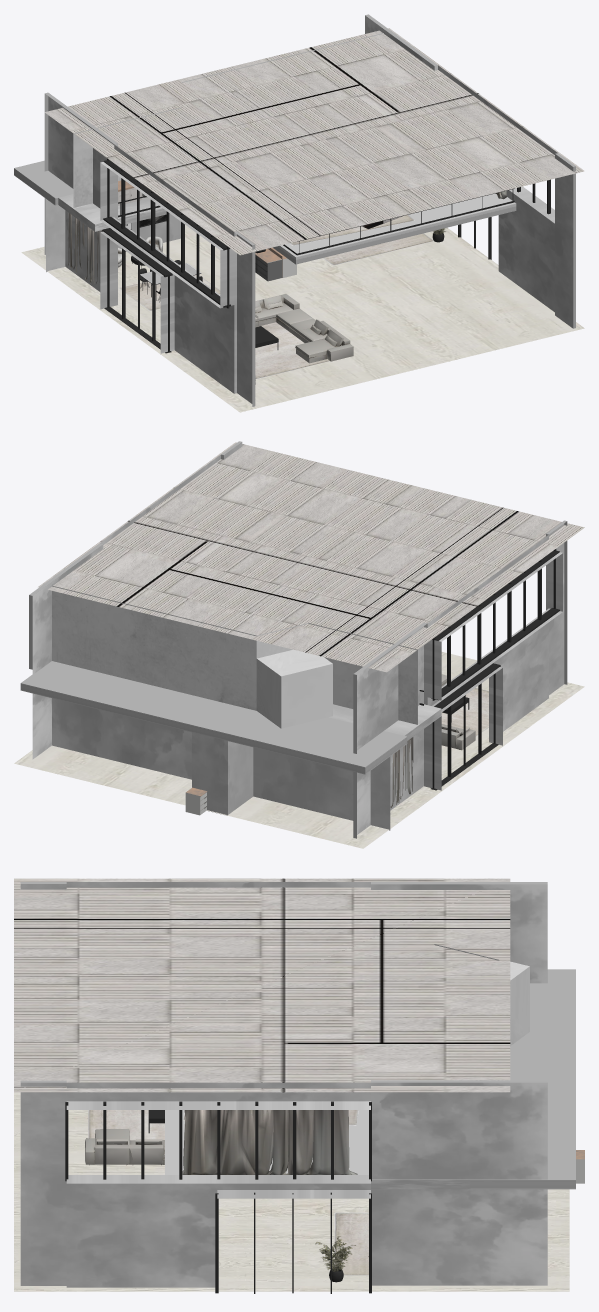
File: interior-14.glb
3 views of the same model, one above another, from view 1: azimuth 30°, elevation 25°; view 2: azimuth 150°, elevation 25°; view 3: azimuth 270°, elevation 25° (orthographic). The views are drawn at different scales.
Visible parts, largest first — view 1: Plane.012_Material.019_0, Cube_Material.002_0, Plane_Material.001_0, Cube.001_Material.004_0, Plane.011_Material.010_0, node_0_Material.005_0, Plane.002_Material.003_0, node_0.002_Material.013_0, Cube.006_Material.007_0; view 2: Plane.012_Material.019_0, Cube_Material.002_0, Plane.002_Material.003_0, Plane_Material.001_0, Cube.001_Material.004_0, Plane.011_Material.010_0, node_0.002_Material.013_0, node_0_Material.005_0, Cube.006_Material.007_0; view 3: Plane.012_Material.019_0, Cube_Material.002_0, Plane_Material.001_0, node_0.002_Material.013_0, Cube.001_Material.004_0, Plane.011_Material.010_0, node_0_Material.005_0, Plane.002_Material.003_0, Cube.018_Material.018_0.
Boxes of the visible parts, x1=… form: Plane.012_Material.019_0: x1=45, y1=28, x2=584, y2=255; Cube_Material.002_0: x1=14, y1=14, x2=575, y2=406; Plane_Material.001_0: x1=21, y1=225, x2=584, y2=412; Cube.001_Material.004_0: x1=102, y1=158, x2=550, y2=353; Plane.011_Material.010_0: x1=119, y1=215, x2=433, y2=378; node_0_Material.005_0: x1=255, y1=294, x2=353, y2=363; Plane.002_Material.003_0: x1=73, y1=31, x2=391, y2=207; node_0.002_Material.013_0: x1=68, y1=191, x2=506, y2=284; Cube.006_Material.007_0: x1=118, y1=180, x2=296, y2=281; Plane.012_Material.019_0: x1=38, y1=442, x2=584, y2=672; Cube_Material.002_0: x1=20, y1=441, x2=567, y2=838; Plane.002_Material.003_0: x1=52, y1=585, x2=417, y2=728; Plane_Material.001_0: x1=14, y1=652, x2=584, y2=848; Cube.001_Material.004_0: x1=419, y1=549, x2=559, y2=790; Plane.011_Material.010_0: x1=441, y1=688, x2=488, y2=736; node_0.002_Material.013_0: x1=390, y1=737, x2=413, y2=807; node_0_Material.005_0: x1=441, y1=674, x2=475, y2=750; Cube.006_Material.007_0: x1=185, y1=787, x2=207, y2=815; Plane.012_Material.019_0: x1=14, y1=878, x2=510, y2=1092; Cube_Material.002_0: x1=20, y1=882, x2=575, y2=1287; Plane_Material.001_0: x1=14, y1=1092, x2=569, y2=1291; node_0.002_Material.013_0: x1=182, y1=1110, x2=357, y2=1174; Cube.001_Material.004_0: x1=65, y1=1101, x2=371, y2=1293; Plane.011_Material.010_0: x1=88, y1=1110, x2=368, y2=1275; node_0_Material.005_0: x1=85, y1=1129, x2=164, y2=1165; Plane.002_Material.003_0: x1=434, y1=944, x2=529, y2=1045; Cube.018_Material.018_0: x1=315, y1=1236, x2=355, y2=1271.
Size of what is drawn, in the model's own units: 11.54 by 5.05 by 12.58.
Materials: 21 (20 with a texture image).
